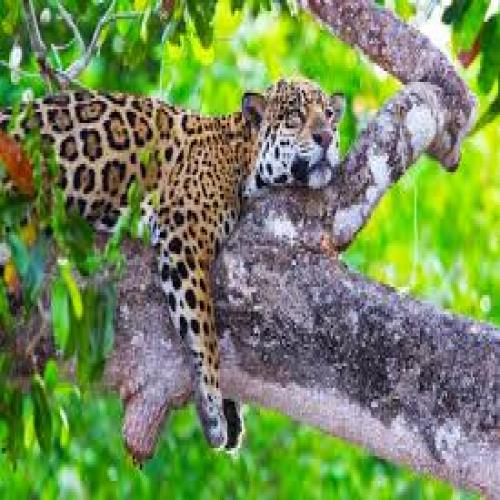jaguar_not-endangered: (7, 86, 338, 443), (398, 423, 398, 423)
